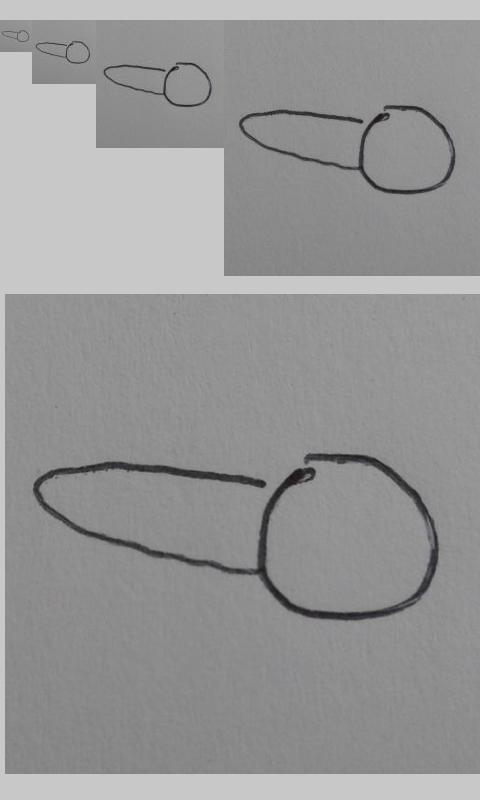switch: (32, 452, 440, 622), (238, 103, 457, 195), (103, 62, 213, 107), (35, 40, 91, 64), (1, 29, 30, 43)
